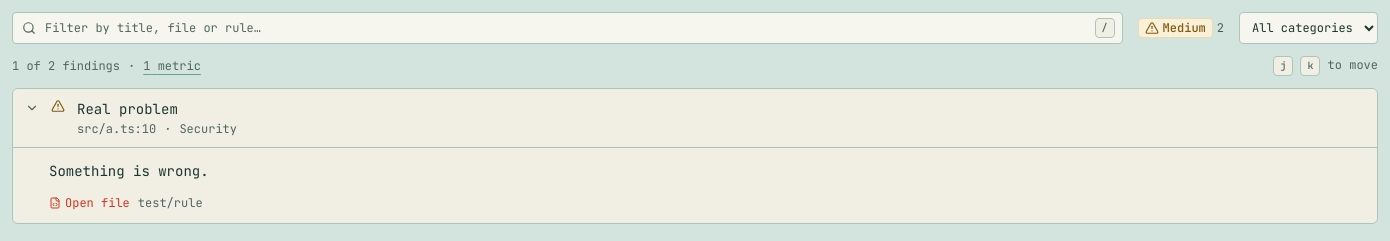
FindingsPanel — prioritisation and the metric split › shows metrics when the category is asked for explicitly
Select "Metrics" in the dropdown named "category" at (1308, 28), box [1239, 12, 1378, 44]
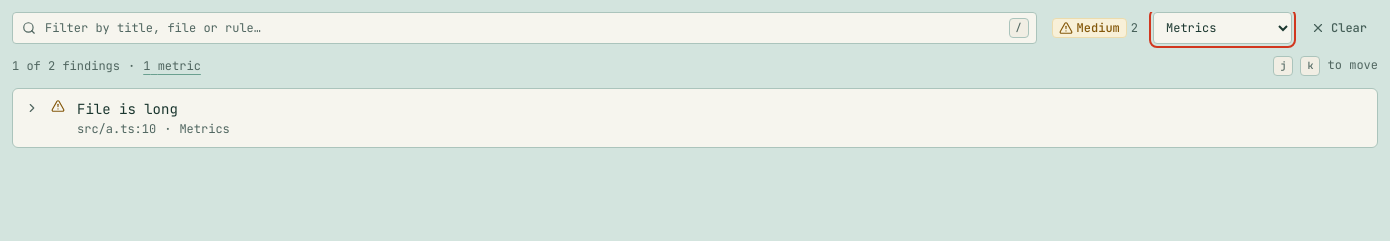
Result: the text "File is long" is shown at [77, 100, 178, 118]
Result: the button "Real problem" is gone
